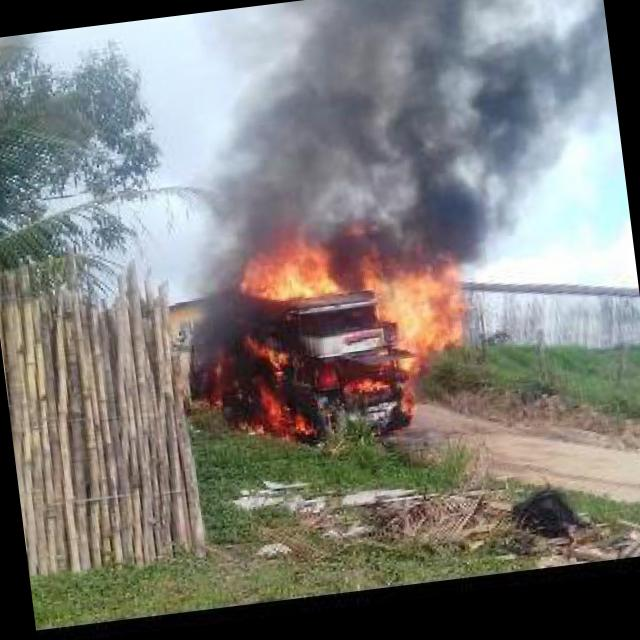fire: (356, 244, 468, 375), (242, 221, 344, 298), (255, 374, 310, 444), (345, 371, 390, 394)
smoke: (298, 0, 631, 270), (165, 157, 252, 343)
